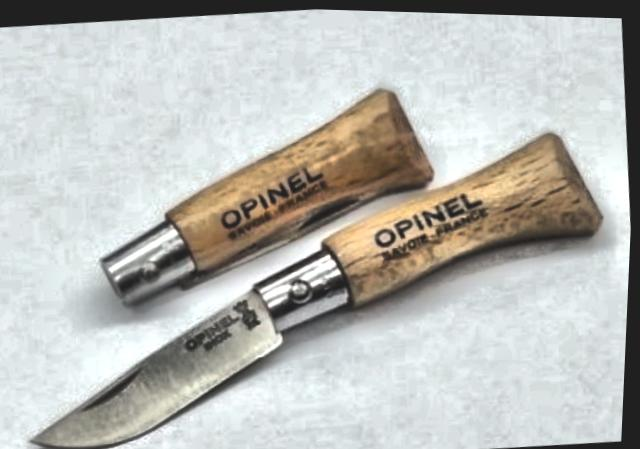knife: (8, 269, 301, 449)
